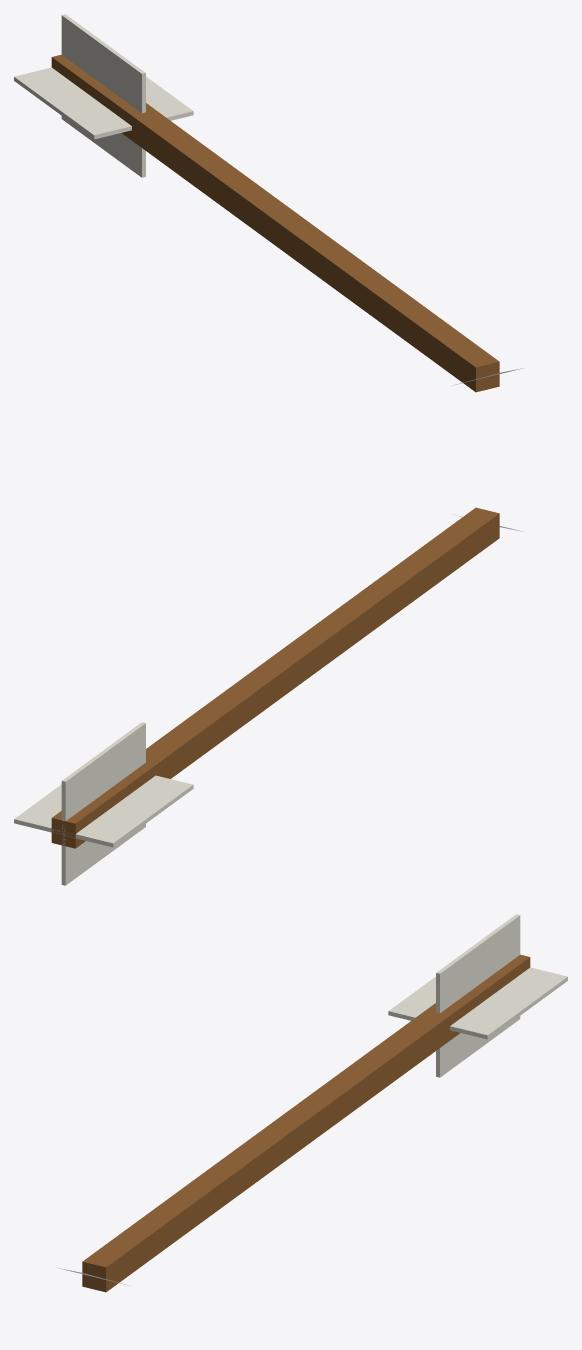
The model's file is arrow_placeholder.glb.
3 renders of one model, top to bottom at view 1: azimuth 30°, elevation 25°; view 2: azimuth 150°, elevation 25°; view 3: azimuth 330°, elevation 25°, orthographic.
Visible parts, largest first — view 1: arrow_placeholder; view 2: arrow_placeholder; view 3: arrow_placeholder.
Part boxes in pixels (<box>): arrow_placeholder: <box>14,14,522,392</box>; arrow_placeholder: <box>14,507,522,885</box>; arrow_placeholder: <box>59,914,567,1292</box>.
Size of the model in its own units: 0.1 by 0.1 by 0.88.
1 material, 1 textured.
